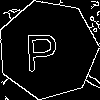P: (23, 24, 60, 72)
